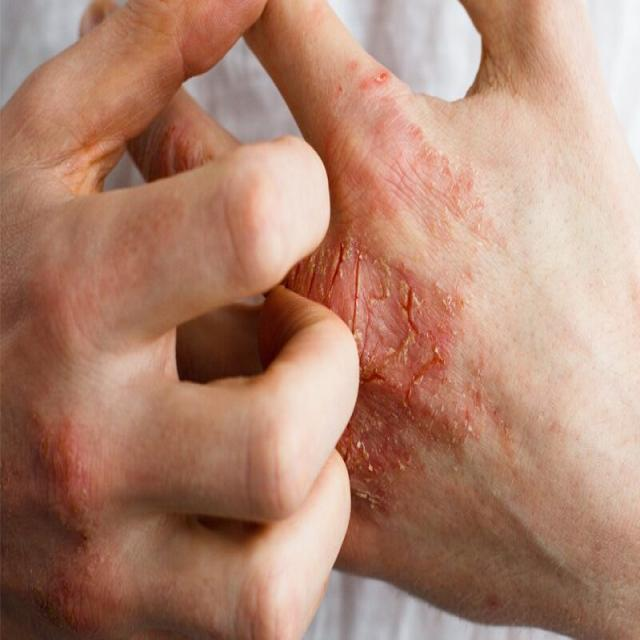Dry-Skin: (311, 22, 517, 288), (344, 290, 512, 452), (349, 464, 405, 526)
